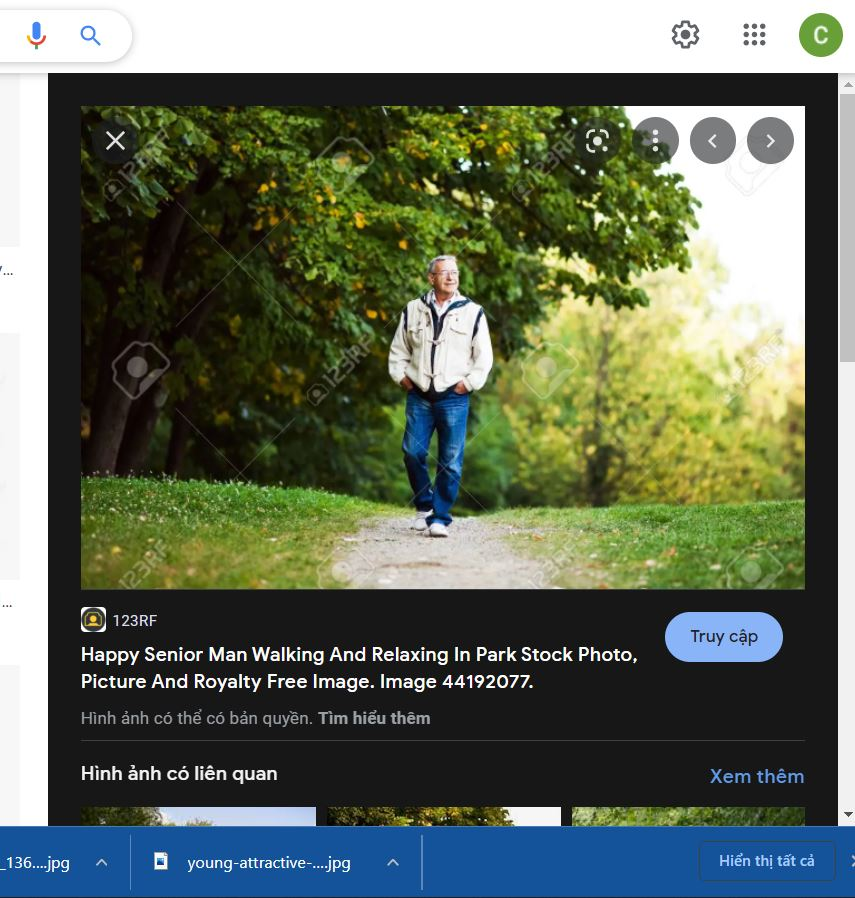person: (389, 257, 494, 540)
